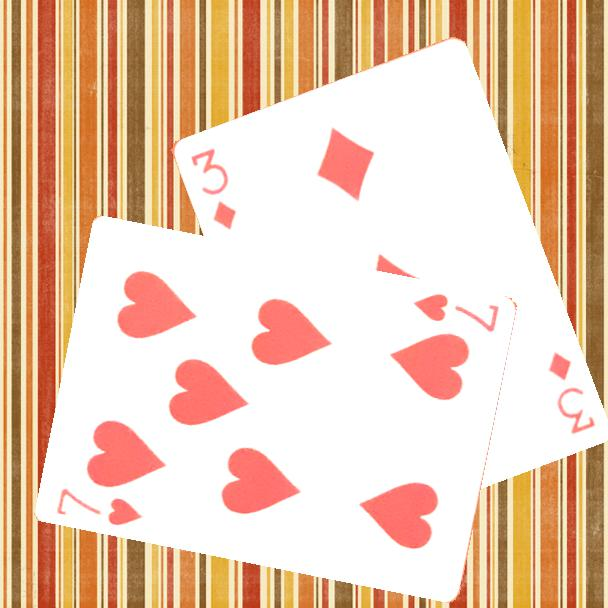d03: (544, 348, 598, 437), (186, 144, 239, 233)
h07: (409, 290, 502, 335), (52, 485, 144, 529)
